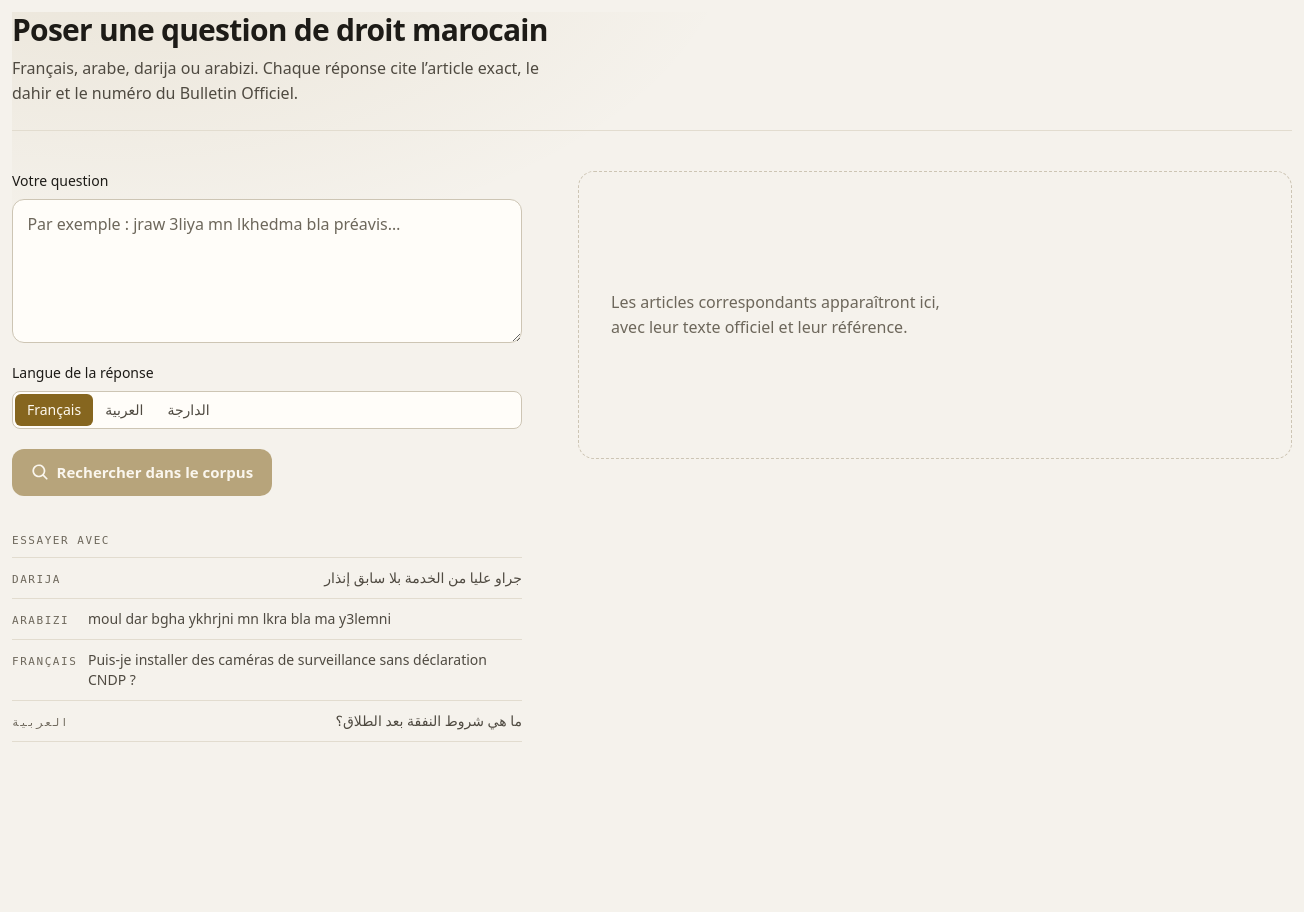
Scenario: Views Integration Tests › AskView › renders header, allows typing and submits legal search
Type "licenciement abusif" into the text box with placeholder "Par exemple : jraw 3liya mn lkhedma bla préavis…". click: point(267, 271)
box: [12,199,522,343]
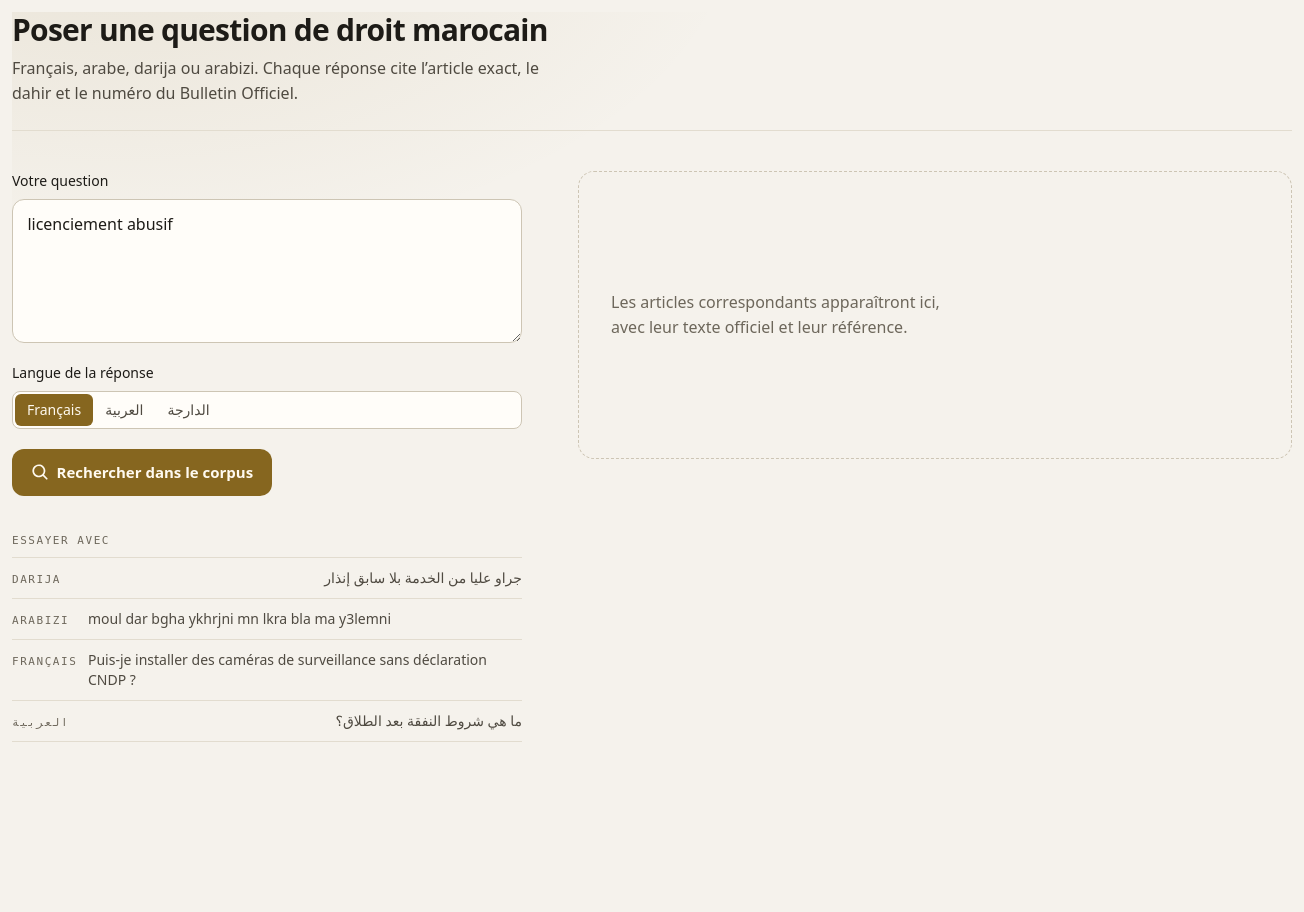
Click the button "Rechercher dans le corpus". click: point(142, 472)
box: [12,449,272,496]
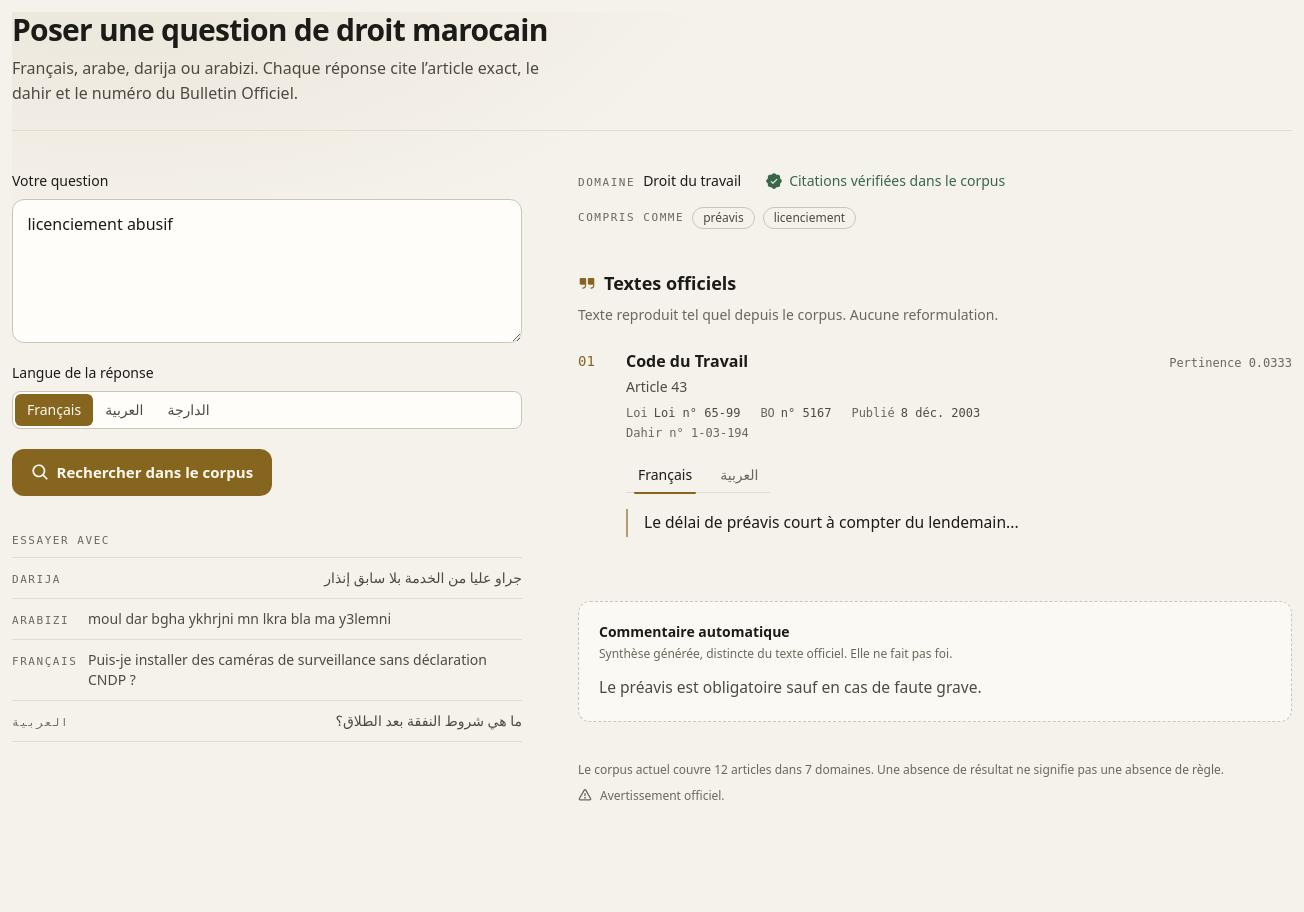
Result: the heading "Code du Travail" is shown at [626,349,748,373]
Result: the text "Article 43" is shown at [626,377,687,396]
